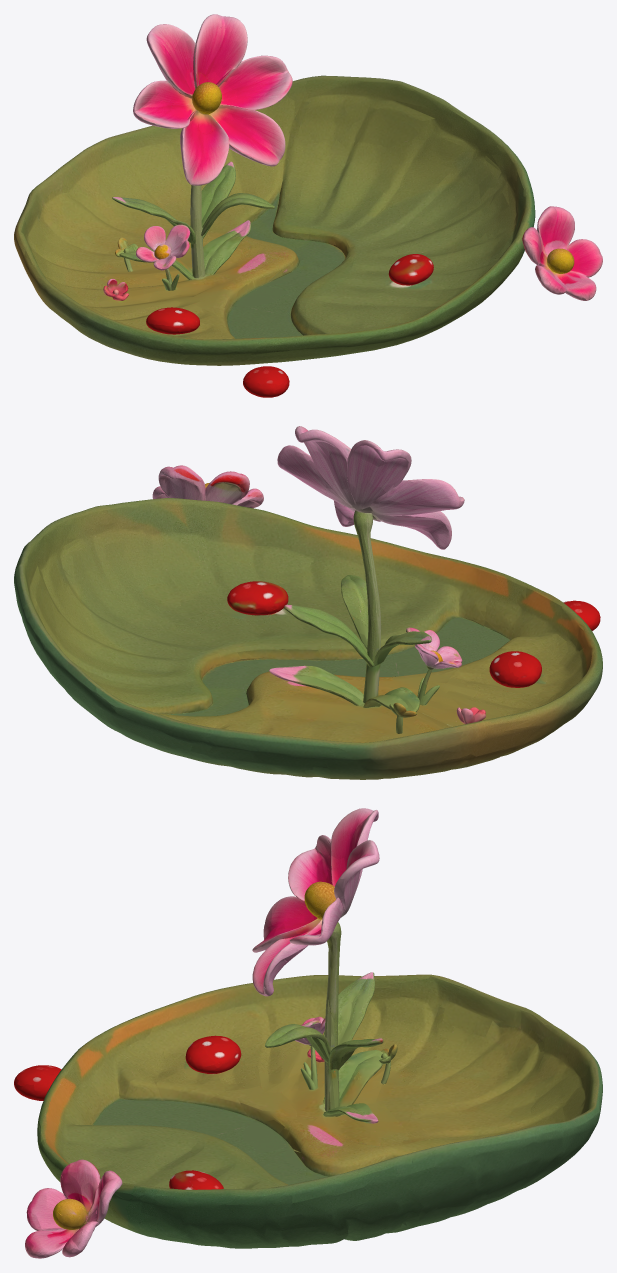
Rendered from meshy-1795567619483.glb.
The picture shows the model from 3 angles, top to bottom: view 1: azimuth 30°, elevation 25°; view 2: azimuth 150°, elevation 25°; view 3: azimuth 270°, elevation 25°; orthographic projection. The views are drawn at different scales.
Size of the model in its own units: 1.9 by 1.02 by 1.79.
1 material, 1 textured.
